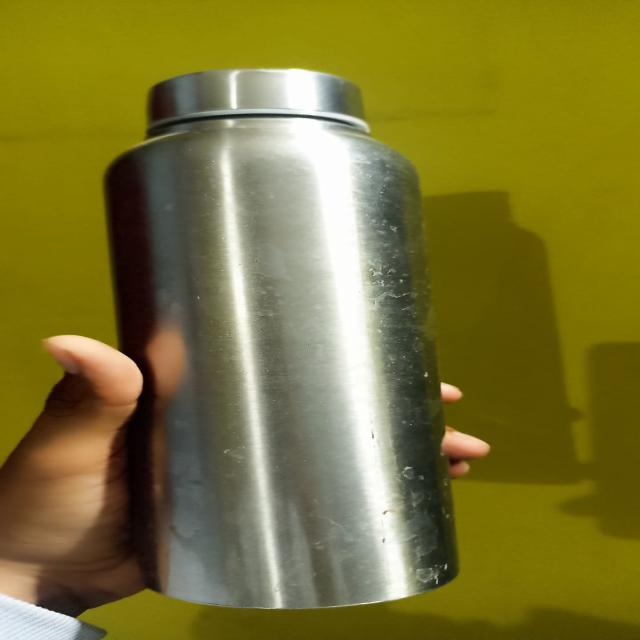bottle: (87, 67, 486, 612)
